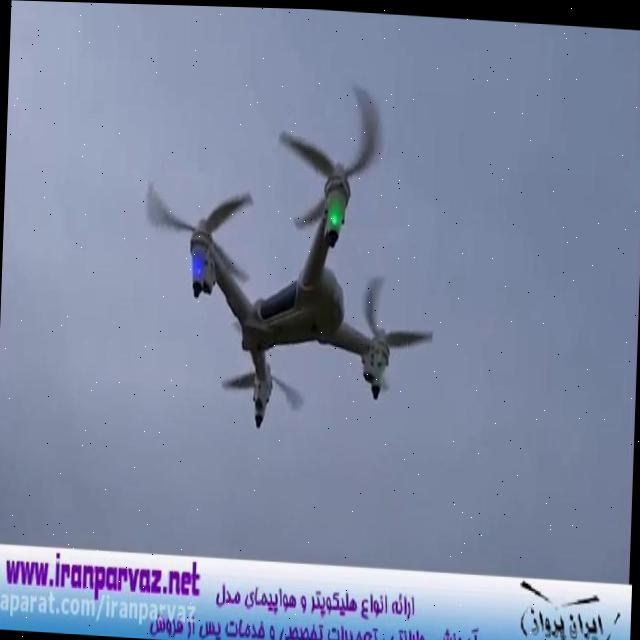drone: (132, 63, 447, 451)
